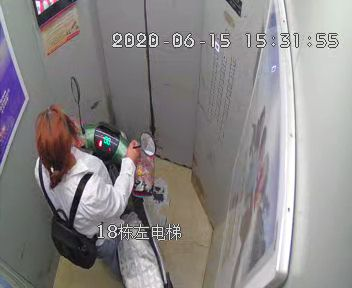Electric-bicycle: (70, 75, 168, 287)
